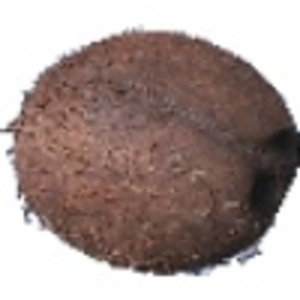coco: (1, 28, 300, 277)
